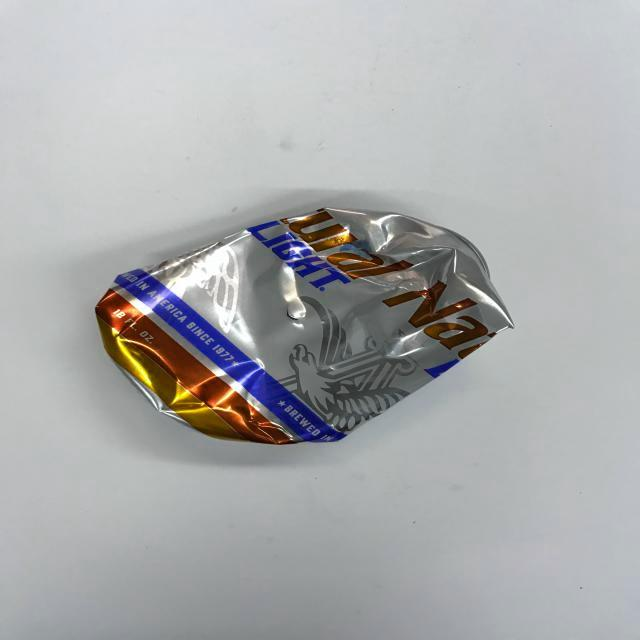metal: (88, 176, 517, 483)
